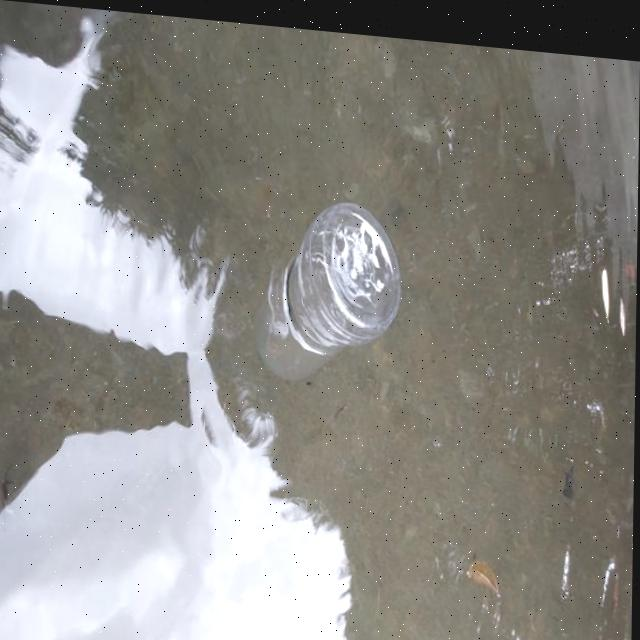waterbottle: (239, 188, 408, 386)
